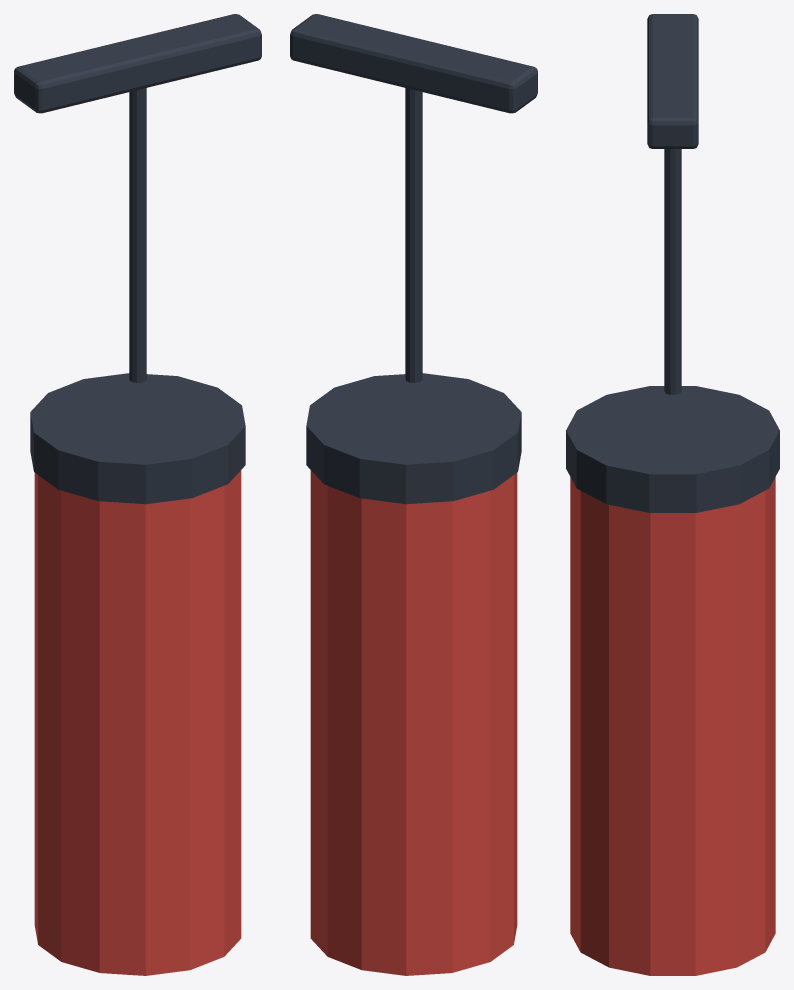
Rendered from Boxing_PunchingBag.fbx.
3 views of the same model, side by side, from view 1: azimuth 30°, elevation 25°; view 2: azimuth 150°, elevation 25°; view 3: azimuth 270°, elevation 25° (orthographic).
Parts seen in each view (by area): view 1: PunchingBag; view 2: PunchingBag; view 3: PunchingBag.
Boxes of the visible parts, bbox=[...] form: PunchingBag: bbox=[14, 14, 261, 975]; PunchingBag: bbox=[290, 14, 537, 975]; PunchingBag: bbox=[566, 14, 779, 975].
Size of the model in its own units: 0.6 by 2.24 by 0.5.
